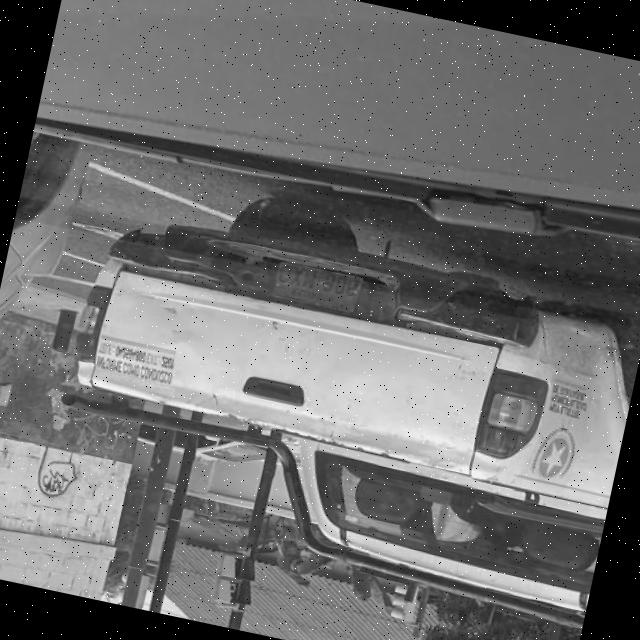Placa: (274, 263, 359, 309)
